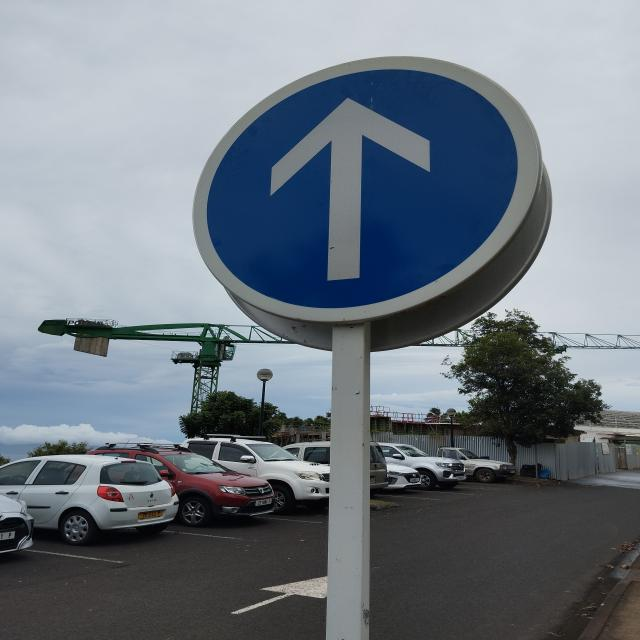Sens-Unique: (196, 53, 536, 321)
